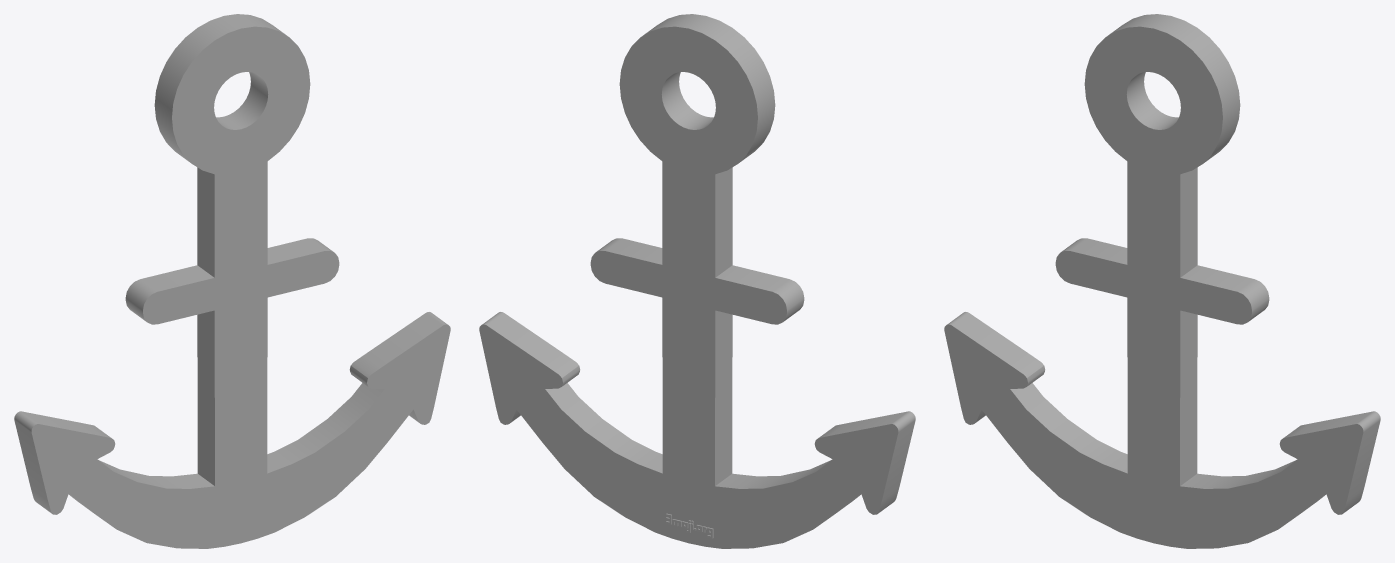
Rendered from anchor.gltf.
The picture shows the model from 3 angles, left to right: view 1: azimuth 30°, elevation 25°; view 2: azimuth 150°, elevation 25°; view 3: azimuth 330°, elevation 25°; orthographic projection.
Visible parts, largest first — view 1: Circle.2399; view 2: Circle.2399; view 3: Circle.2399.
Part boxes in pixels (x1,y1,x2,y2): Circle.2399: (14, 14, 450, 548); Circle.2399: (479, 14, 915, 548); Circle.2399: (944, 14, 1380, 548).
Bounding box in the file's own units: 1.95 × 2.29 × 0.1455.
1 material, 1 textured.
